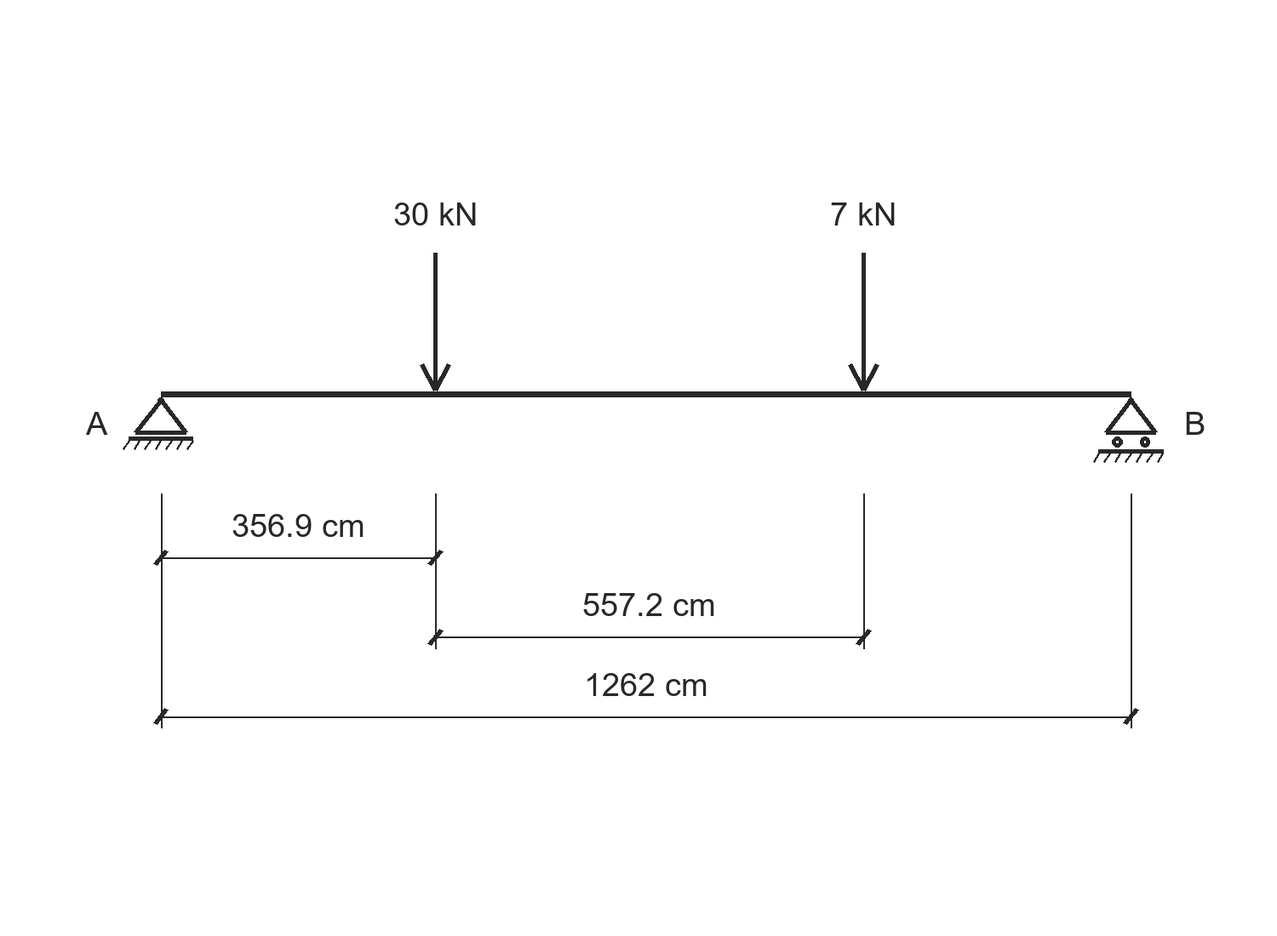pin_support: (123, 397, 194, 450)
point_load: (420, 253, 451, 391), (848, 253, 879, 391)
roller_support: (1093, 397, 1164, 463)
